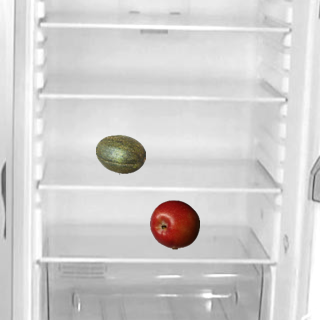Apple Braeburn: (149, 199, 199, 249)
Melon Piel de Sapo: (95, 129, 145, 179)
